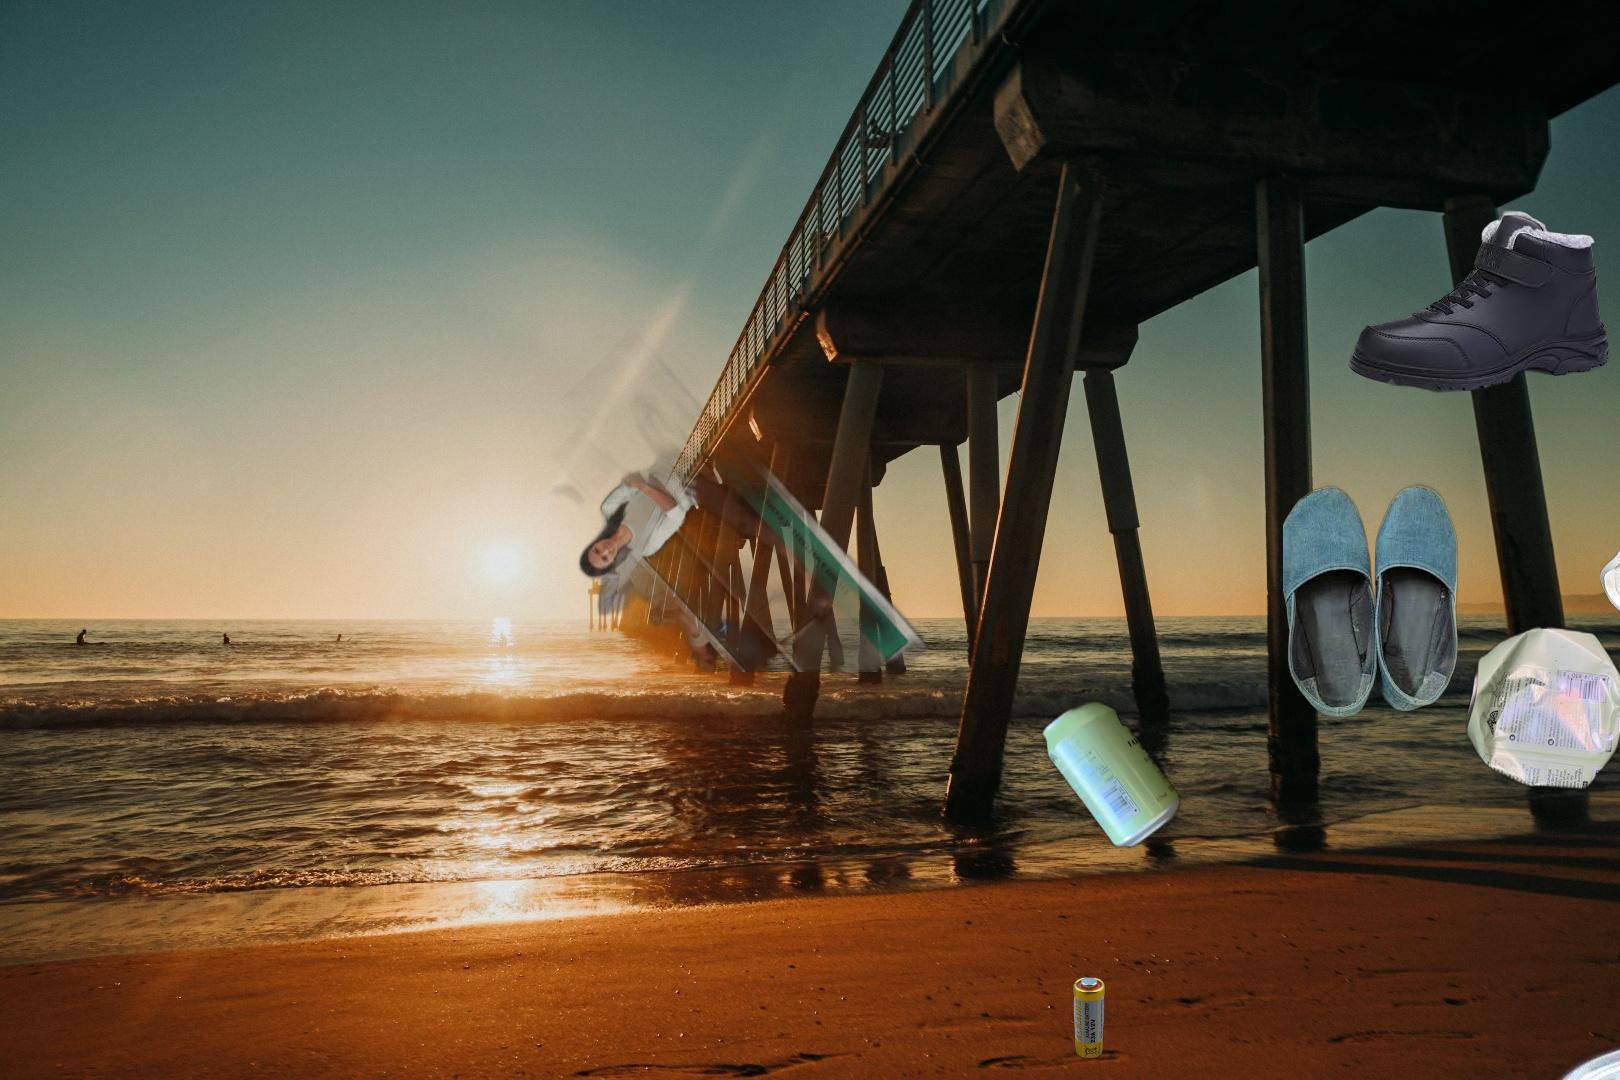battery: (1070, 974, 1108, 1062)
metal-cans: (1461, 620, 1620, 796), (1037, 695, 1182, 855)
paper: (441, 328, 943, 673)
penholder: (1472, 1012, 1620, 1080)
shoes: (1348, 210, 1612, 395), (1282, 480, 1461, 718)
trash: (1600, 492, 1620, 669)
